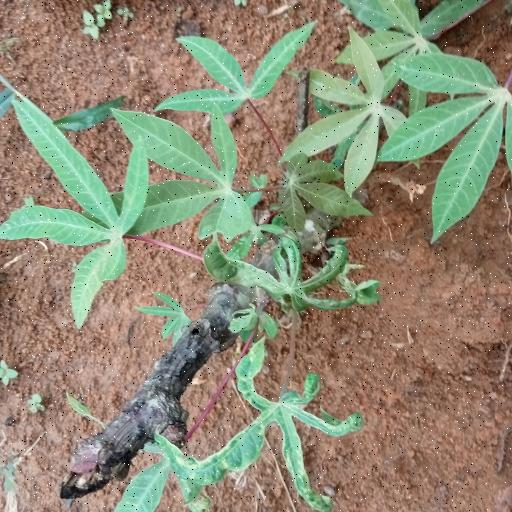Cassava_Mosaic: (4, 95, 148, 314), (186, 327, 357, 506), (298, 18, 418, 186)
